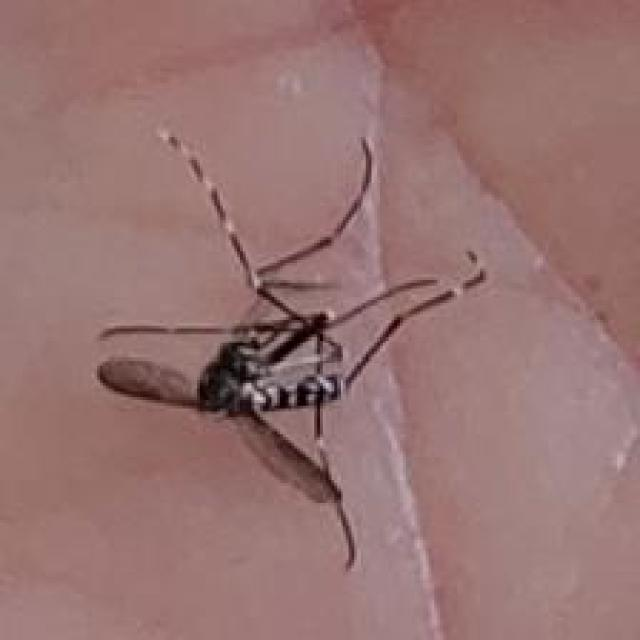Aedes albopictus: (94, 126, 489, 571)
